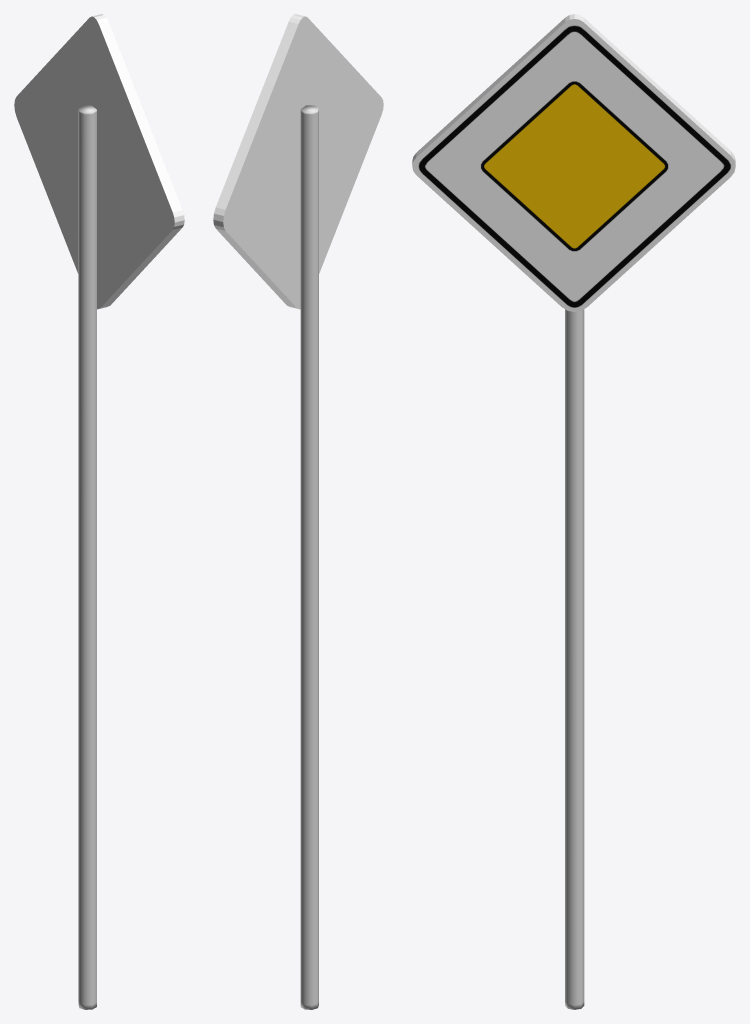
The model's file is sign_priority.glb.
3 renders of one model, left to right at view 1: azimuth 30°, elevation 25°; view 2: azimuth 150°, elevation 25°; view 3: azimuth 270°, elevation 25°, orthographic.
Parts seen in each view (by area): view 1: priority, pole; view 2: priority, pole; view 3: priority, pole.
Part boxes in pixels (<box>): priority: <box>14,14,184,309</box>; pole: <box>78,105,96,1009</box>; priority: <box>213,14,383,309</box>; pole: <box>300,105,318,1009</box>; priority: <box>412,14,735,311</box>; pole: <box>565,309,584,1009</box>.
Bounding box in the file's own units: 0.075 × 2.85 × 0.84.
2 materials, 1 textured.
